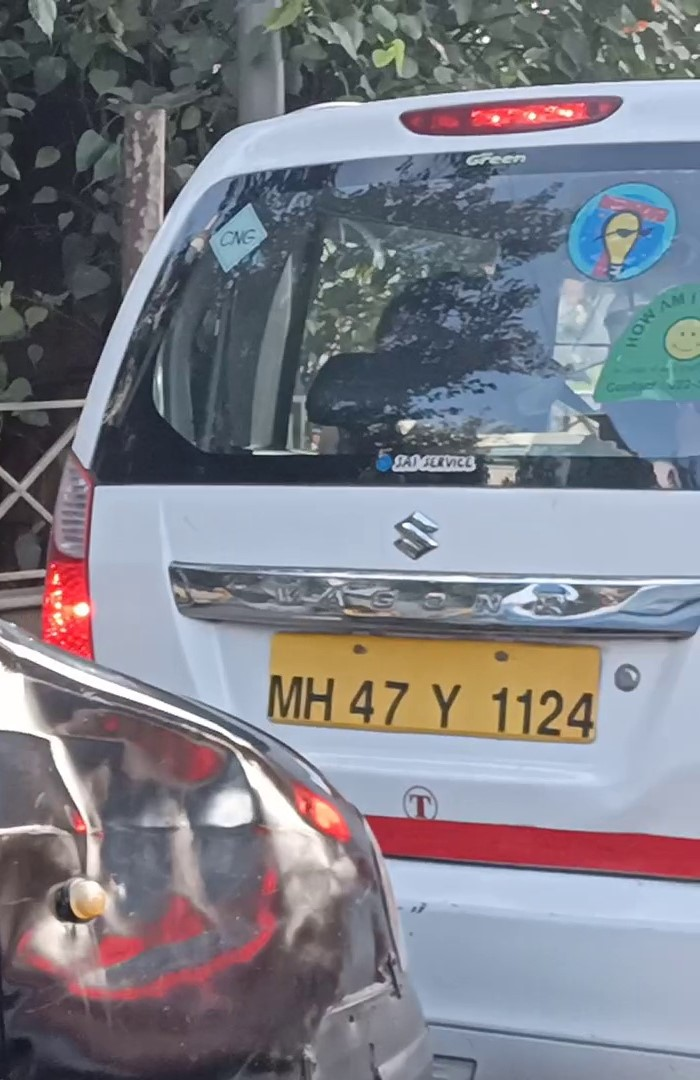MH47Y1124: (266, 635, 605, 743)
